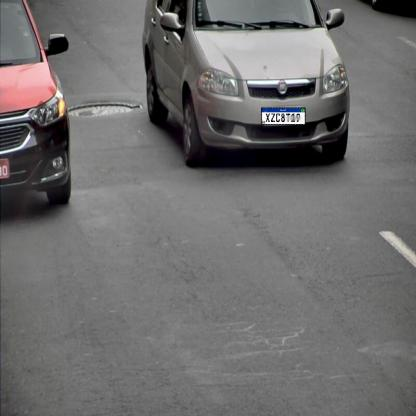PlacaM: (261, 107, 306, 125)
